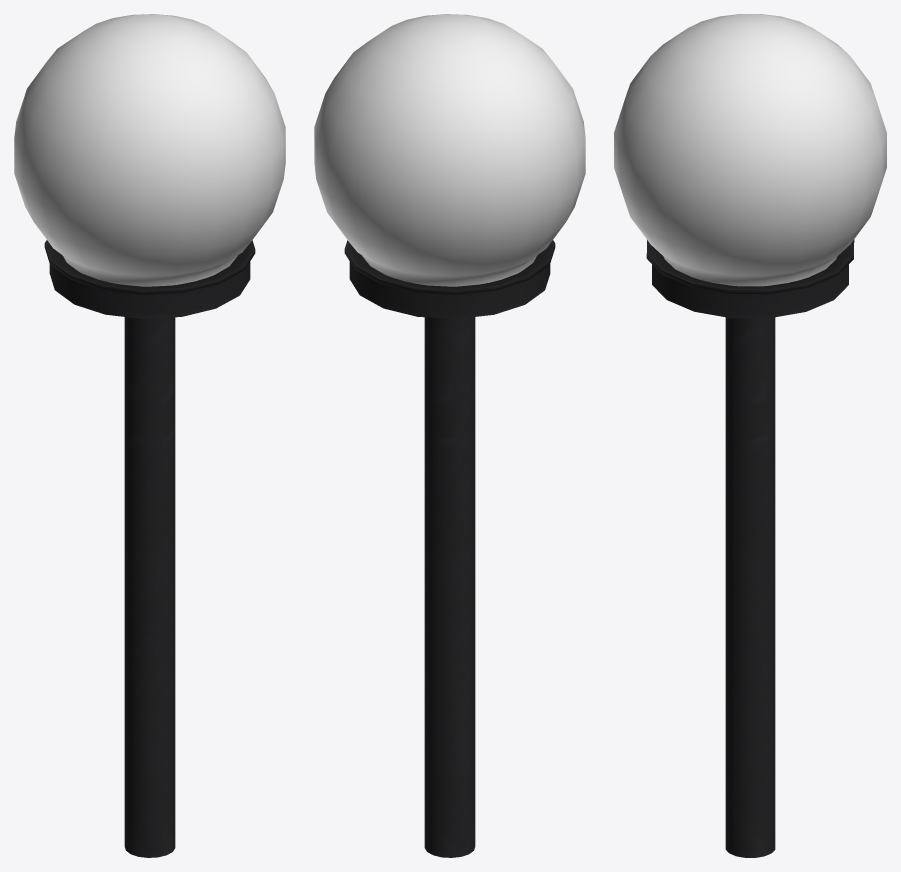
Rendered from GardenLightGlobe01.FBX.
3 views of the same model, side by side, from view 1: azimuth 30°, elevation 25°; view 2: azimuth 150°, elevation 25°; view 3: azimuth 270°, elevation 25° (orthographic).
Visible parts, largest first — view 1: GardenLightGlobe01; view 2: GardenLightGlobe01; view 3: GardenLightGlobe01.
Part boxes in pixels (box(x1,y1,x2,y2)): GardenLightGlobe01: box(14, 14, 285, 857); GardenLightGlobe01: box(314, 14, 585, 857); GardenLightGlobe01: box(614, 14, 886, 857).
Size of what is drawn, in the model's own units: 0.1532 by 0.5148 by 0.1548.
